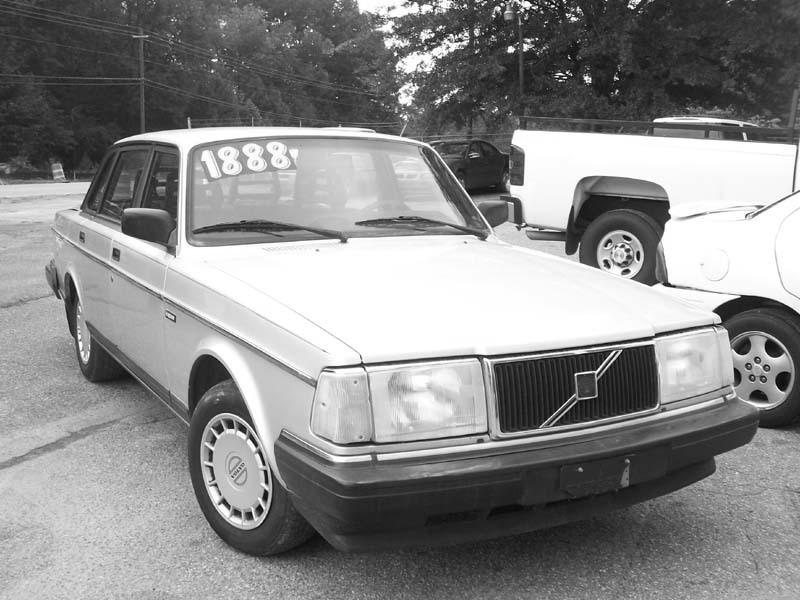car: (42, 111, 777, 562)
